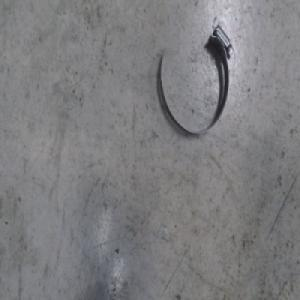AdjustableClamp: (157, 20, 234, 140)
